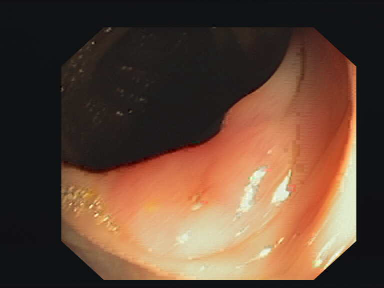polyp: (136, 156, 243, 218)
